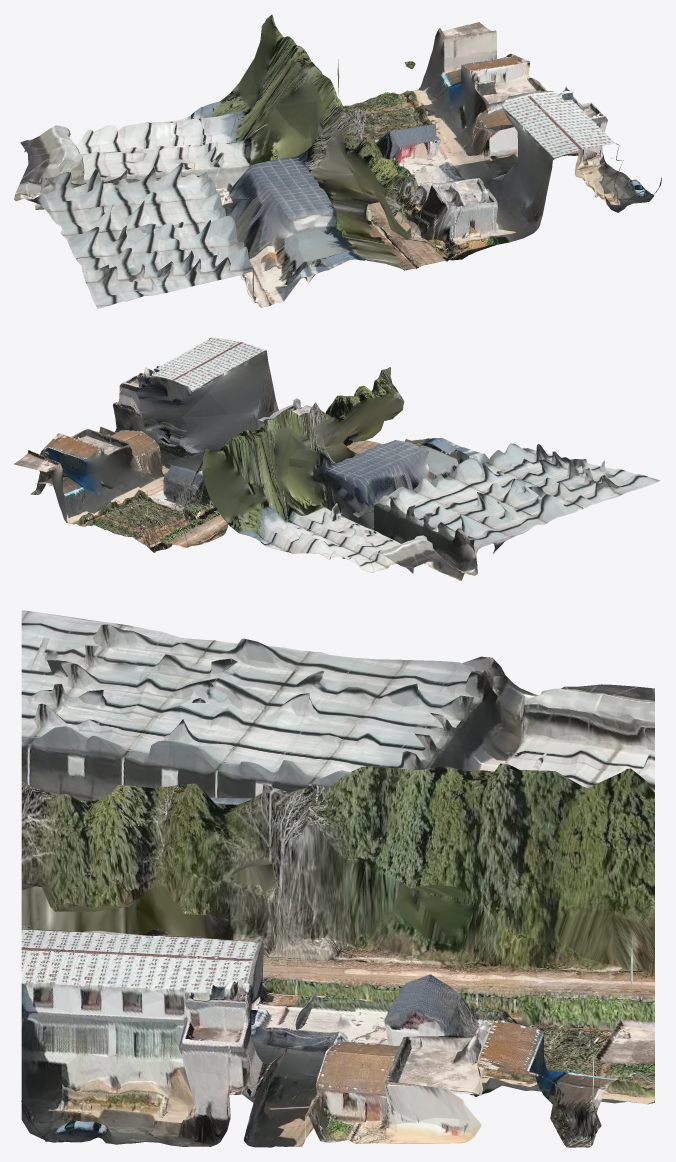
The model's file is BlockYY_L19_56.glb.
3 views of the same model, one above another, from view 1: azimuth 30°, elevation 25°; view 2: azimuth 150°, elevation 25°; view 3: azimuth 270°, elevation 25° (orthographic). The views are drawn at different scales.
Parts seen in each view (by area): view 1: rtc; view 2: rtc; view 3: rtc.
Boxes of the visible parts, box(x1,y1,x2,y2) form: rtc: box(14, 14, 661, 308); rtc: box(14, 337, 660, 580); rtc: box(21, 610, 654, 1147).
Bounding box in the file's own units: 91.6 × 20.35 × 51.32.
4 materials, 4 textured.
